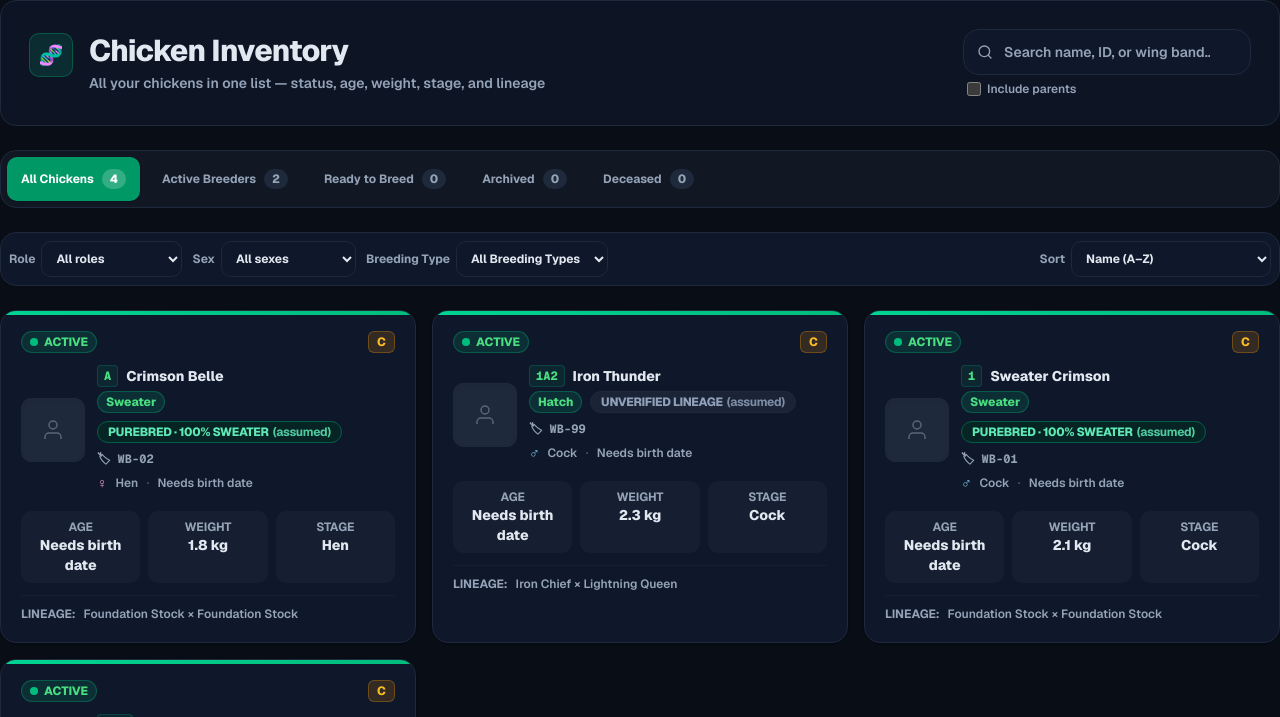
Test: MarketplacePage (Chicken Inventory) search and filtering › enabling "Include parents" includes Sweater Red Storm with parent match hint
Type "crim" into the search field named "Search Inventory" at [1107, 52], box [963, 29, 1251, 75]
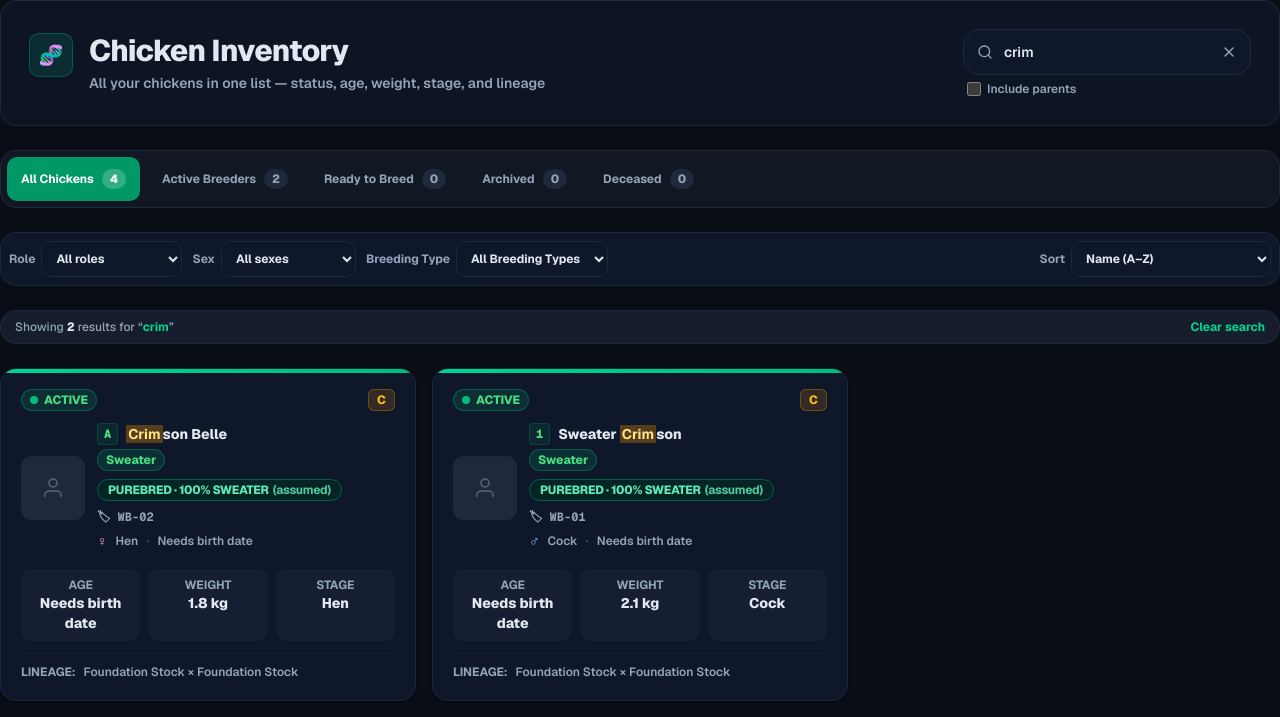
Expected: the element with test id "search-results-banner" shows "Showing 2 results for “crim”", [0, 310, 1279, 344]
// Check "Include parents" checkbox
Click the checkbox labelled "Include parents" at [974, 89], box [967, 82, 981, 96]
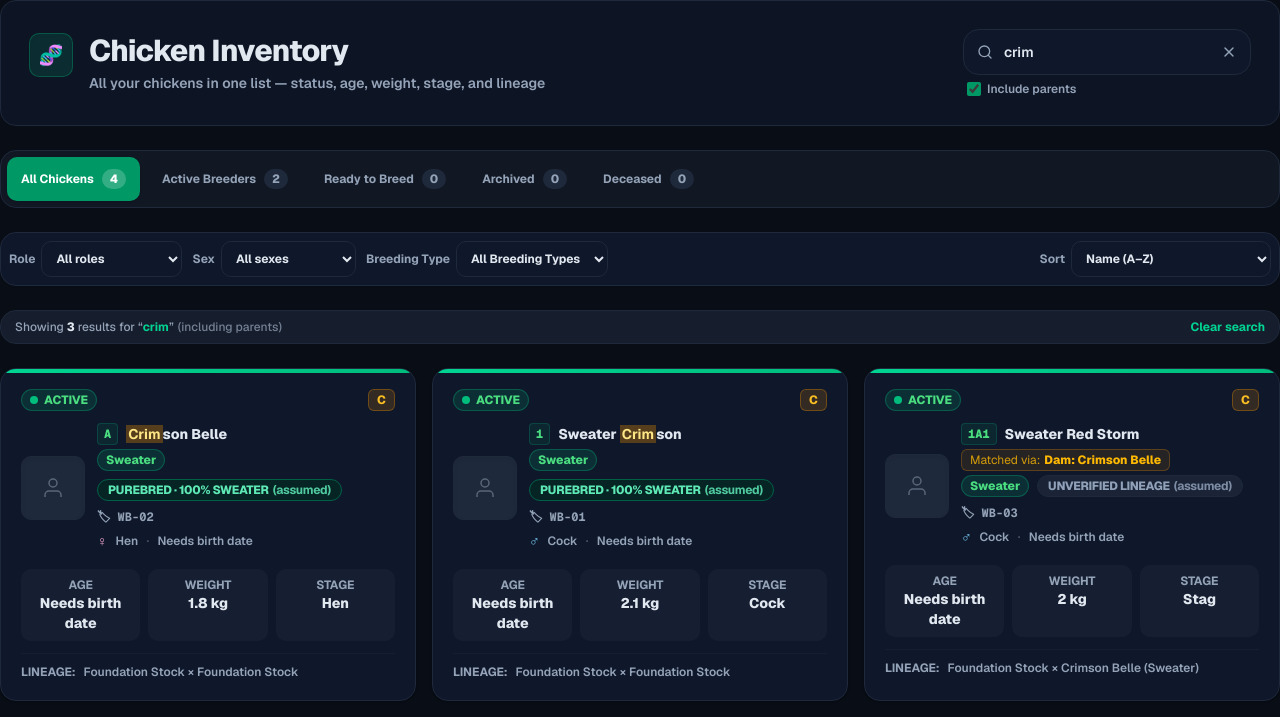
Expected: the element with test id "search-results-banner" shows "Showing 3 results for “crim”", [0, 310, 1279, 344]
Expected: the heading "Sweater Red Storm" is shown, [1005, 424, 1140, 444]
Expected: the text "Dam: Crimson Belle" is shown, [1044, 452, 1161, 468]
